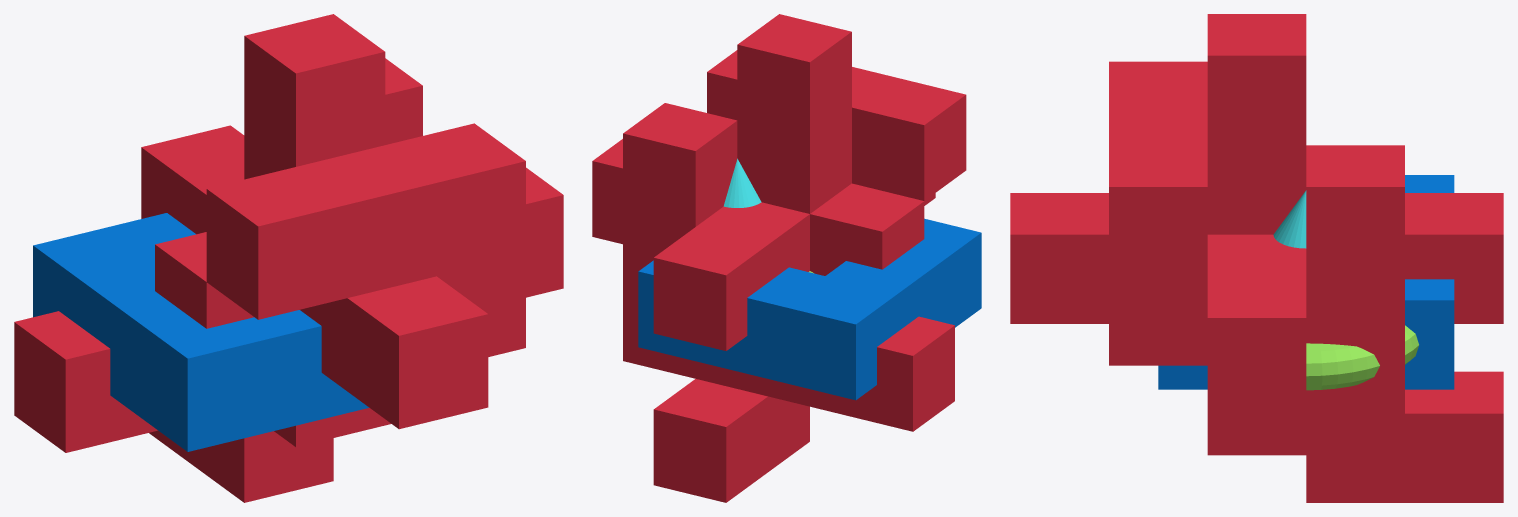
Rendered from puzzle1.fbx.
3 views of the same model, side by side, from view 1: azimuth 30°, elevation 25°; view 2: azimuth 150°, elevation 25°; view 3: azimuth 270°, elevation 25° (orthographic). The views are drawn at different scales.
Visible parts, largest first — view 1: Random, Cube.001, Cube; view 2: Random, Cube, Cube.001, Cone; view 3: Random, Cube, Torus, Cube.001, Cone.
Part boxes in pixels (bbox=[...]): Random: bbox=[14, 14, 563, 502]; Cube.001: bbox=[84, 266, 369, 451]; Cube: bbox=[33, 213, 195, 329]; Random: bbox=[592, 14, 966, 502]; Cube: bbox=[638, 260, 897, 400]; Cube.001: bbox=[825, 218, 981, 331]; Cone: bbox=[723, 158, 761, 207]; Random: bbox=[1010, 14, 1503, 502]; Cube: bbox=[1405, 175, 1454, 389]; Torus: bbox=[1306, 325, 1418, 390]; Cube.001: bbox=[1158, 365, 1207, 389]; Cone: bbox=[1273, 190, 1306, 248].
Size of the model in its own units: 500 by 500 by 500.
